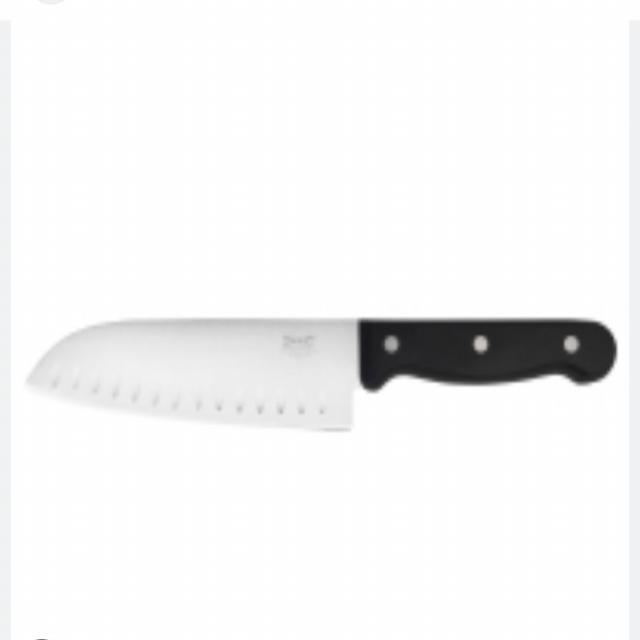Knife: (19, 291, 638, 455)
